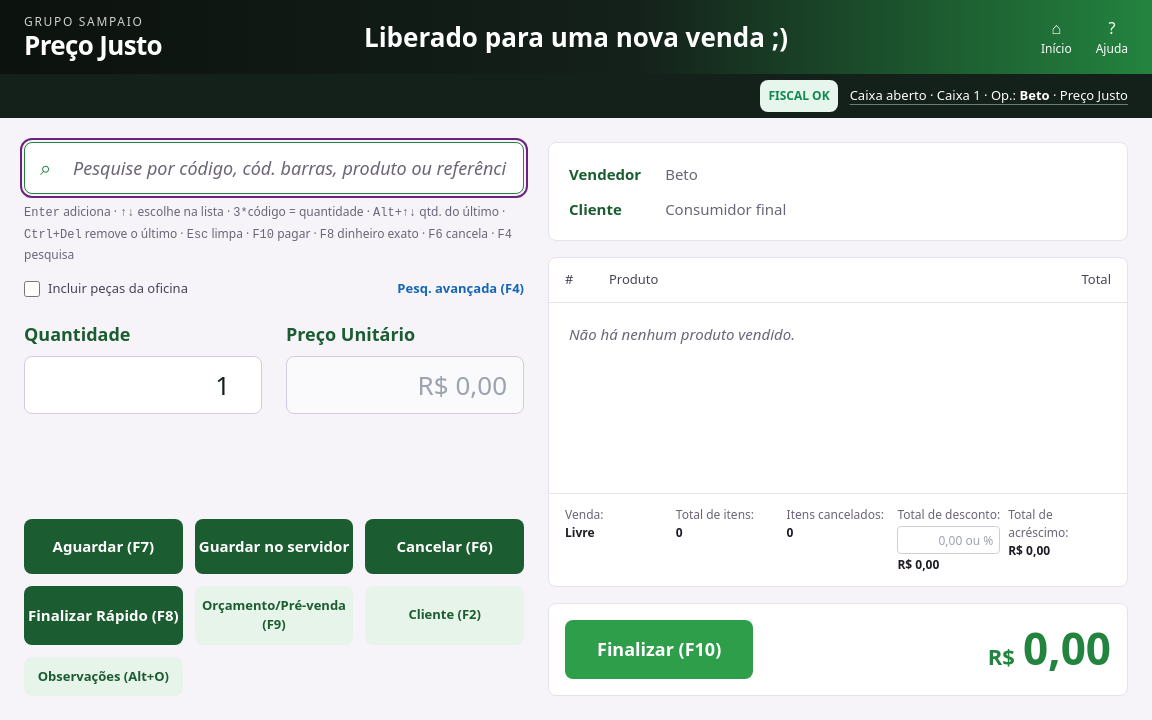
Test case: a operação tem mais de um caixa › o computador registrado por token não escolhe: o caixa é o do token
Click the button "Caixa aberto · Caixa 1 · Op.: Beto · Preço Justo" at [989, 96], box [850,80,1128,112]
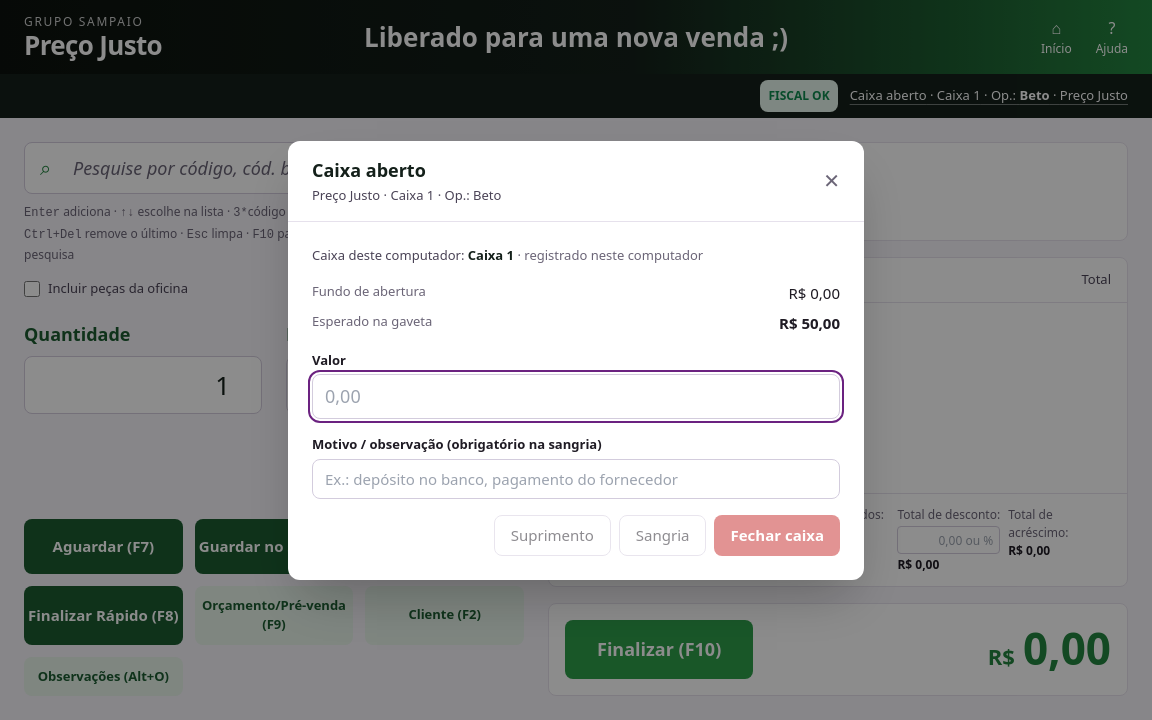
Now the element with test id "linha-do-caixa" shows "registrado neste computador", box [514,246,703,264]
